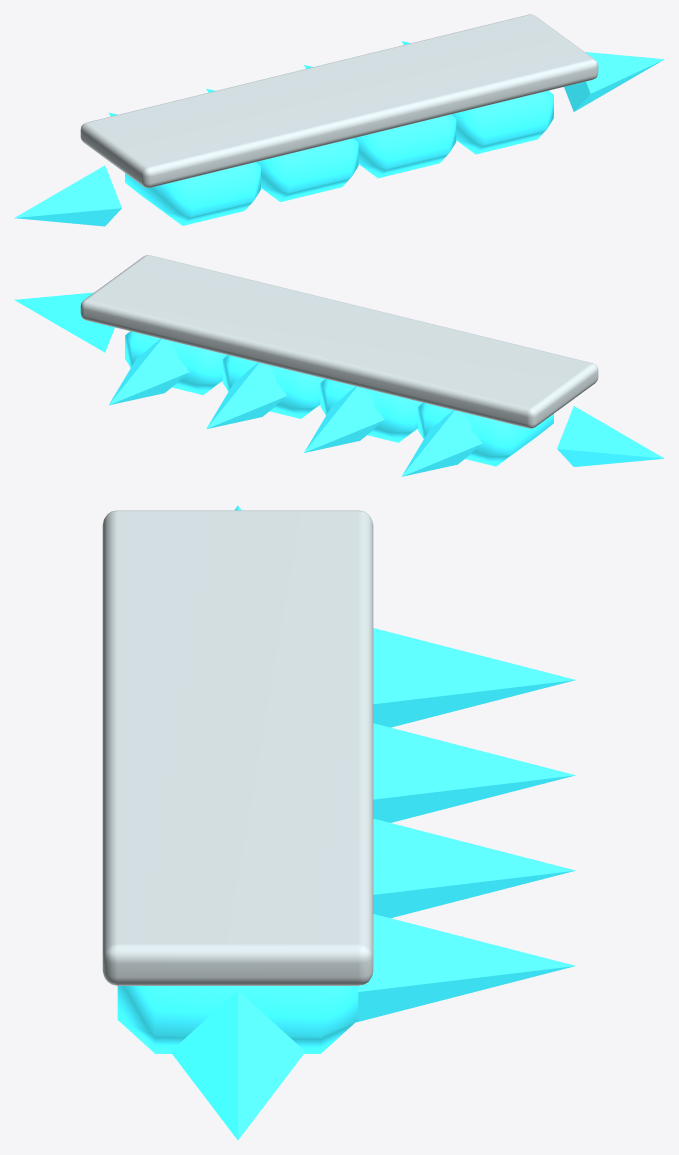
The model's file is Knuckles_Diamond.glb.
3 renders of one model, top to bottom at view 1: azimuth 30°, elevation 25°; view 2: azimuth 150°, elevation 25°; view 3: azimuth 270°, elevation 25°, orthographic. The views are drawn at different scales.
Visible parts, largest first — view 1: Diamond_Frost, Diamond_Crystal; view 2: Diamond_Frost, Diamond_Crystal; view 3: Diamond_Frost, Diamond_Crystal.
Part boxes in pixels (bbox=[...]): Diamond_Frost: bbox=[80, 14, 598, 187]; Diamond_Crystal: bbox=[14, 41, 664, 226]; Diamond_Frost: bbox=[80, 255, 598, 428]; Diamond_Crystal: bbox=[14, 292, 664, 476]; Diamond_Frost: bbox=[102, 510, 373, 985]; Diamond_Crystal: bbox=[117, 506, 575, 1139].
Bounding box in the file's own units: 2 × 0.275 × 0.63.
